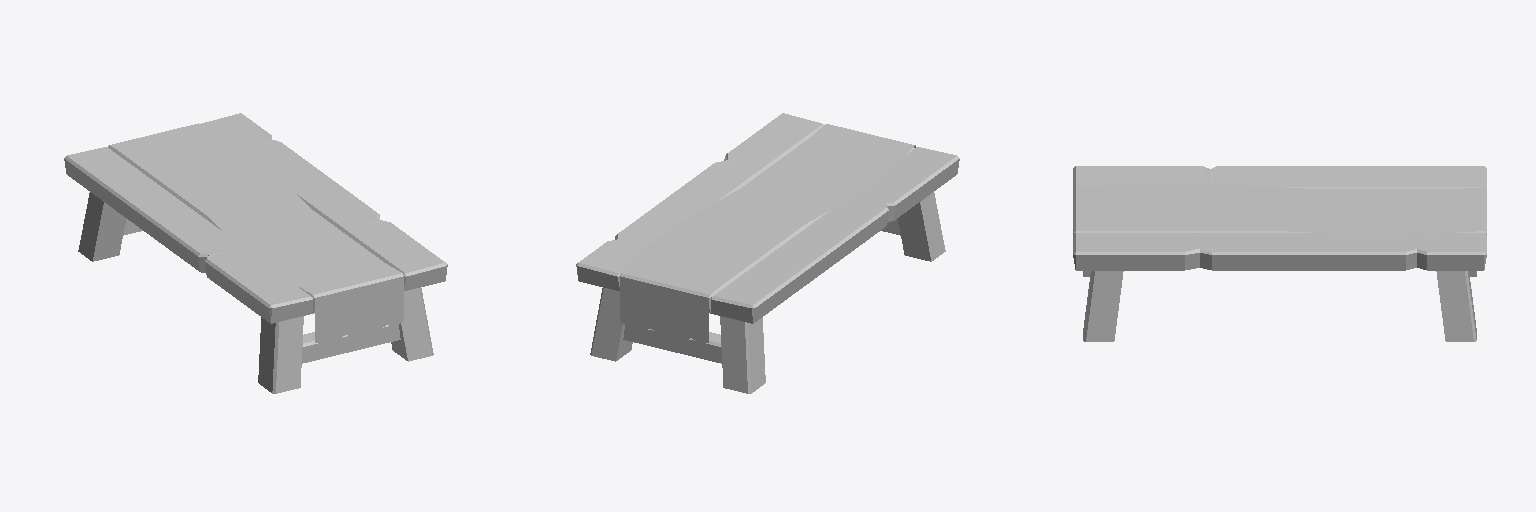
File: table_long_tablecloth.obj
3 views of the same model, side by side, from view 1: azimuth 30°, elevation 25°; view 2: azimuth 150°, elevation 25°; view 3: azimuth 270°, elevation 25° (orthographic).
Parts seen in each view (by area): view 1: table_long_tablecloth; view 2: table_long_tablecloth; view 3: table_long_tablecloth.
Boxes of the visible parts, x1=… form: table_long_tablecloth: x1=64, y1=113, x2=447, y2=393; table_long_tablecloth: x1=576, y1=113, x2=959, y2=393; table_long_tablecloth: x1=1073, y1=166, x2=1486, y2=341.
Size of the model in its own units: 2 by 1 by 4.